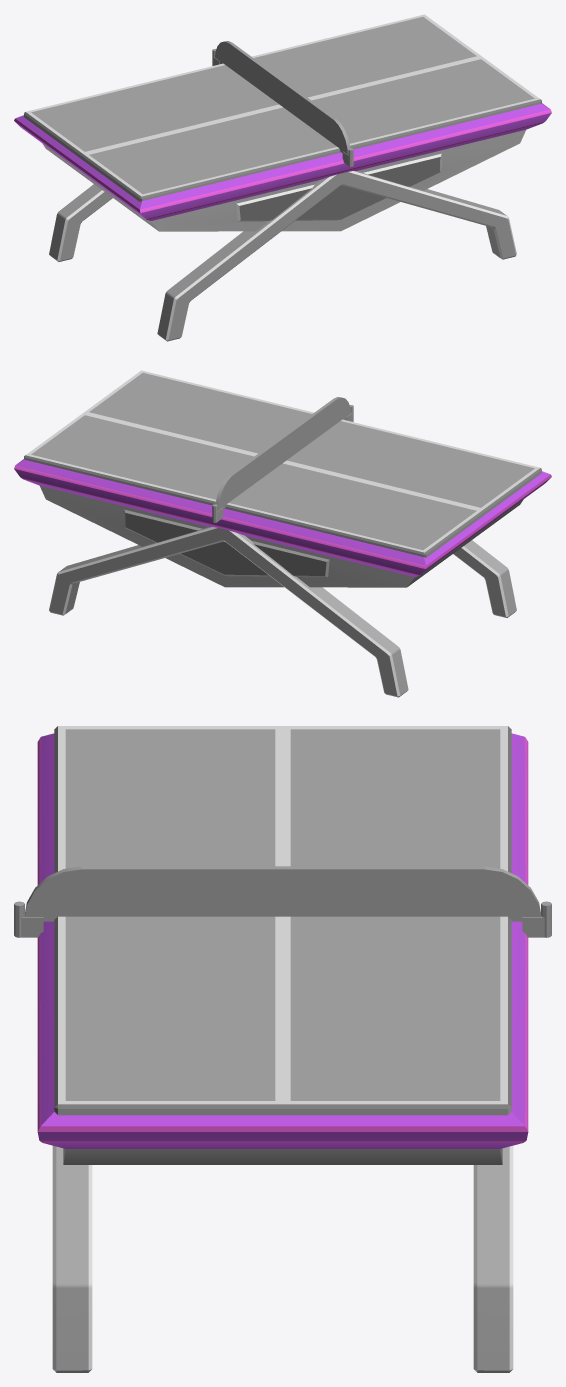
File: TableTennisVIP.fbx
The picture shows the model from 3 angles, top to bottom: view 1: azimuth 30°, elevation 25°; view 2: azimuth 150°, elevation 25°; view 3: azimuth 270°, elevation 25°; orthographic projection. The views are drawn at different scales.
Parts seen in each view (by area): view 1: pCube8, pCube20, pCylinder12, pCylinder11; view 2: pCube8, pCube20, pCylinder12, pCylinder11; view 3: pCube8, pCube20, pCylinder11, pCylinder12.
Part boxes in pixels (x1=…): pCube8: x1=24, y1=14, x2=541, y2=201; pCube20: x1=14, y1=103, x2=551, y2=231; pCylinder12: x1=49, y1=171, x2=516, y2=341; pCylinder11: x1=215, y1=41, x2=350, y2=154; pCube8: x1=24, y1=370, x2=541, y2=557; pCube20: x1=14, y1=459, x2=551, y2=587; pCylinder12: x1=49, y1=527, x2=516, y2=697; pCylinder11: x1=215, y1=397, x2=350, y2=510; pCube8: x1=54, y1=726, x2=511, y2=1115; pCube20: x1=37, y1=733, x2=528, y2=1164; pCylinder11: x1=24, y1=866, x2=541, y2=921; pCylinder12: x1=52, y1=1145, x2=513, y2=1372.
Size of the model in its own units: 21.23 by 8.63 by 12.38.
